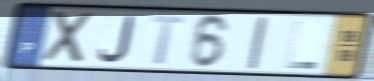6: (186, 13, 235, 70)
I: (245, 15, 271, 71)
J: (96, 14, 136, 64)
L: (283, 18, 320, 71)
T: (149, 14, 188, 67)
X: (41, 8, 98, 65)
